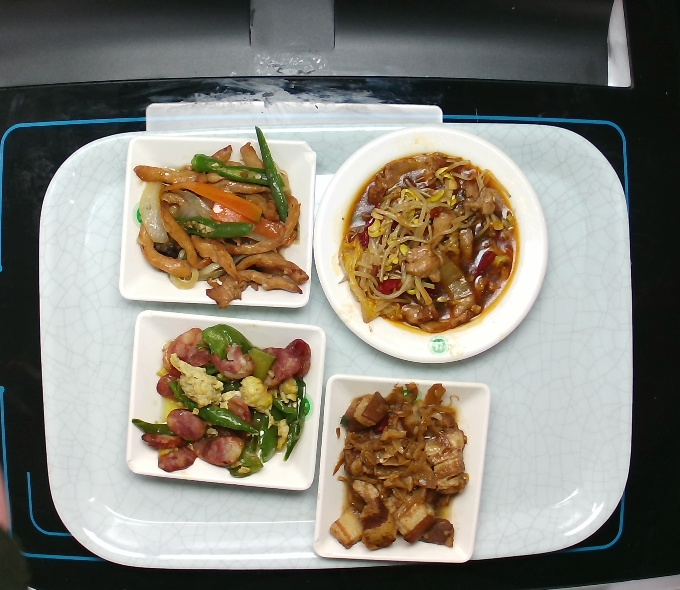wcq-HongShaoRou: (324, 379, 473, 555)
wcq-QingJiaoJiDanChaoDaChang: (128, 319, 319, 479)
wcq-QingJiaoRouSi: (128, 122, 316, 313)
wcq-ShuiZhuRouPian: (330, 146, 528, 346)
